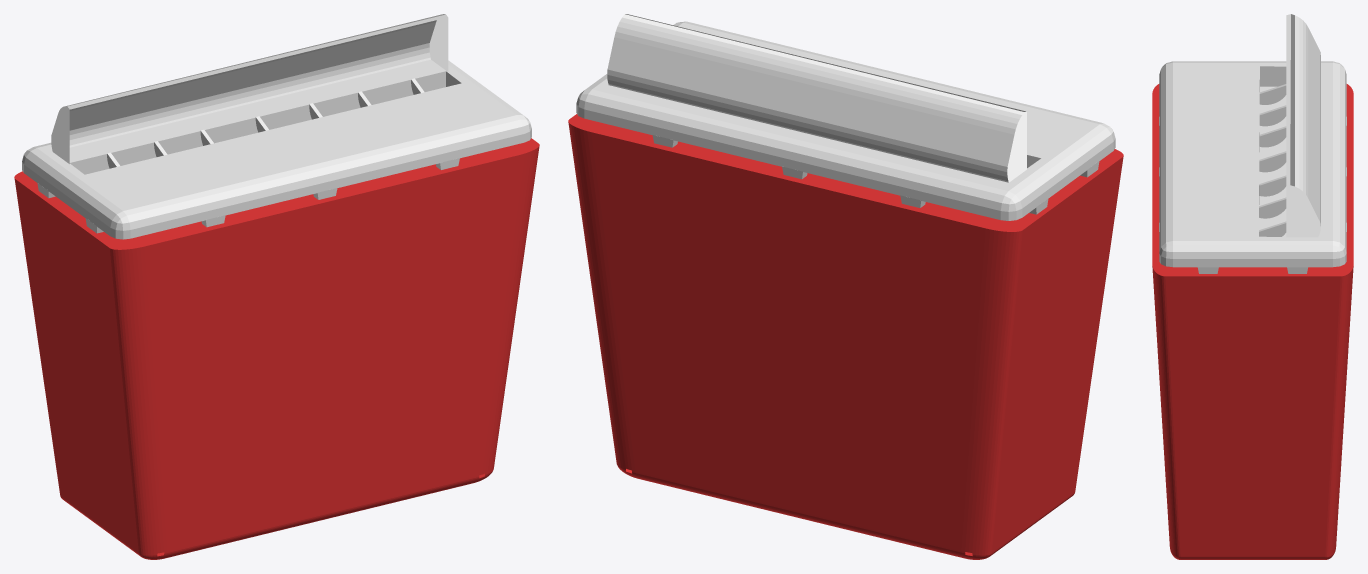
File: WasteDisposal.glb
3 views of the same model, side by side, from view 1: azimuth 30°, elevation 25°; view 2: azimuth 150°, elevation 25°; view 3: azimuth 270°, elevation 25° (orthographic). The views are drawn at different scales.
Parts seen in each view (by area): view 1: Cube, Cylinder.004; view 2: Cube, Cylinder.004; view 3: Cube, Cylinder.004.
Part boxes in pixels (box(x1,y1,x2,y2)): Cube: box(14, 138, 539, 559); Cylinder.004: box(22, 14, 531, 239); Cube: box(568, 114, 1123, 559); Cylinder.004: box(576, 14, 1115, 220); Cube: box(1152, 84, 1353, 559); Cylinder.004: box(1159, 14, 1346, 273).
Size of the model in its own units: 0.552 by 0.5119 by 0.2421.
